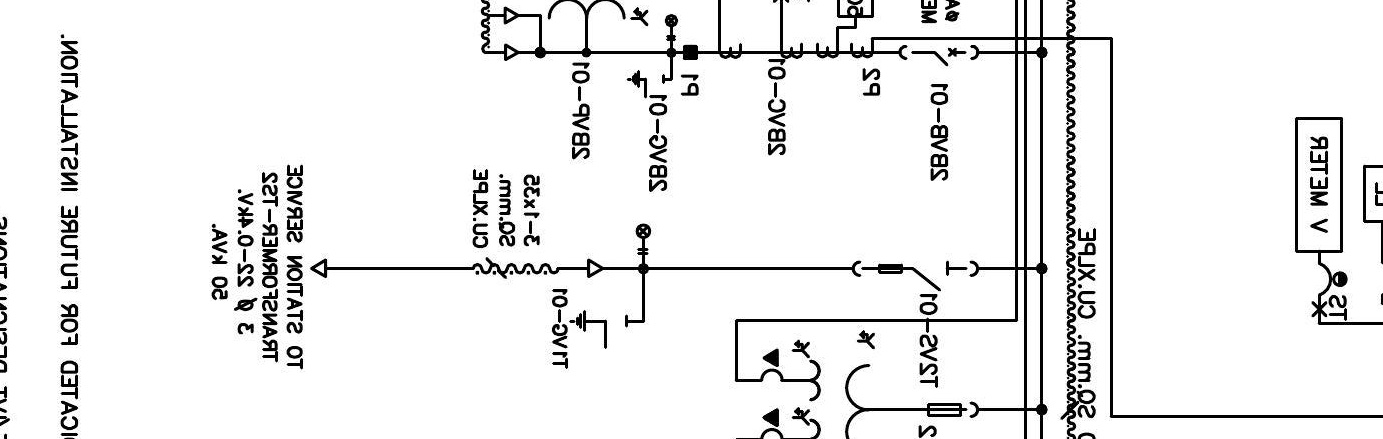22_breaker: (898, 44, 980, 67)
22_ds: (851, 260, 980, 292)
22_gs: (569, 310, 628, 350), (625, 70, 665, 100)
22_ll: (635, 223, 652, 255), (664, 13, 679, 42)
terminator_double: (503, 6, 543, 62)
terminator_single: (586, 257, 605, 279), (309, 258, 328, 280)
v_m_digital: (1294, 116, 1344, 254)
